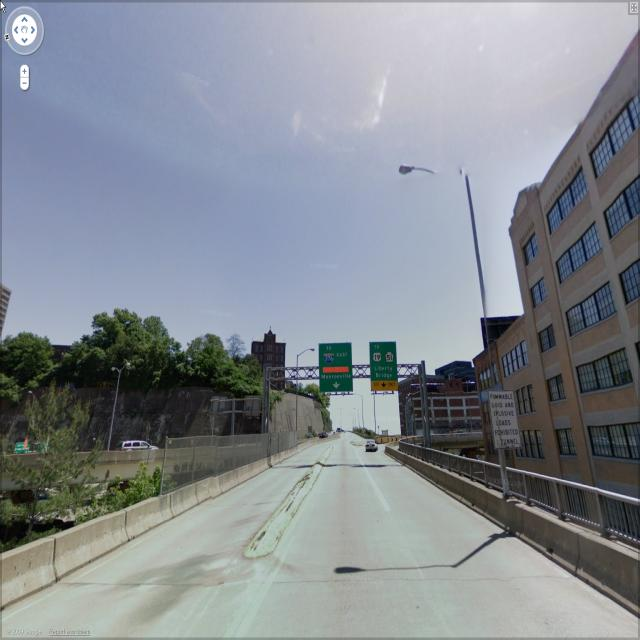b_1: (528, 34, 640, 497), (468, 332, 520, 473), (404, 364, 484, 444), (253, 334, 291, 383)
